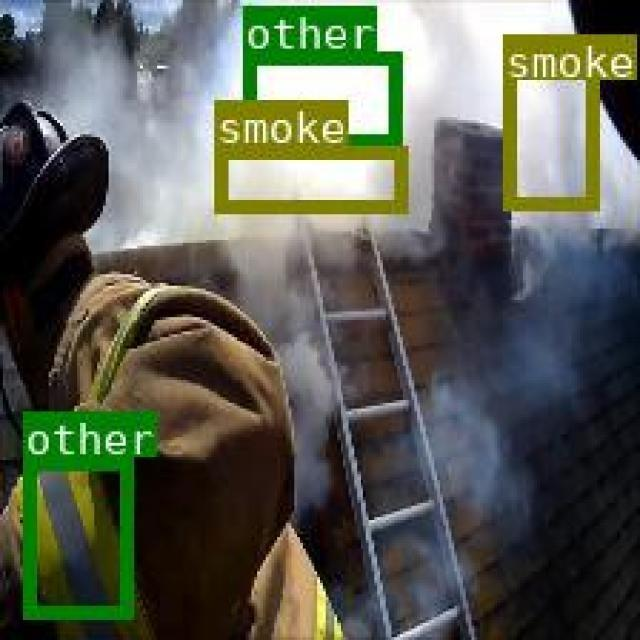smoke: (501, 32, 596, 206), (213, 145, 405, 209)
